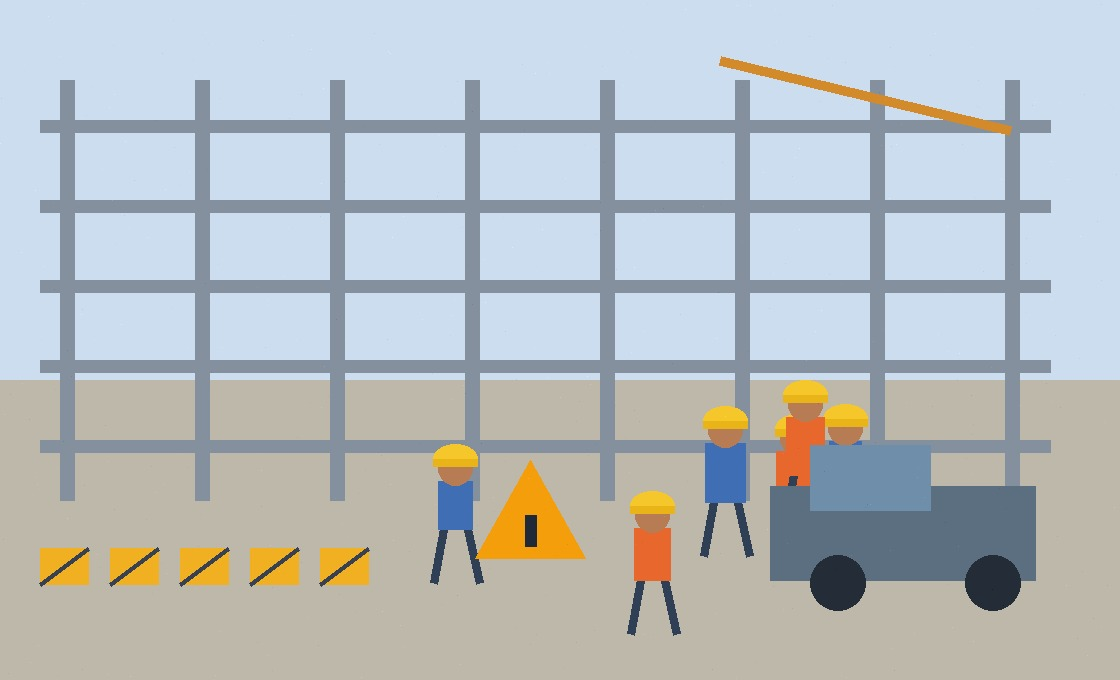helmet: (217, 350, 259, 384), (222, 350, 264, 384)
person: (202, 360, 264, 530)
vehicle: (770, 445, 1035, 595)
vest: (192, 395, 264, 483)
warning_sign: (475, 458, 585, 558)
